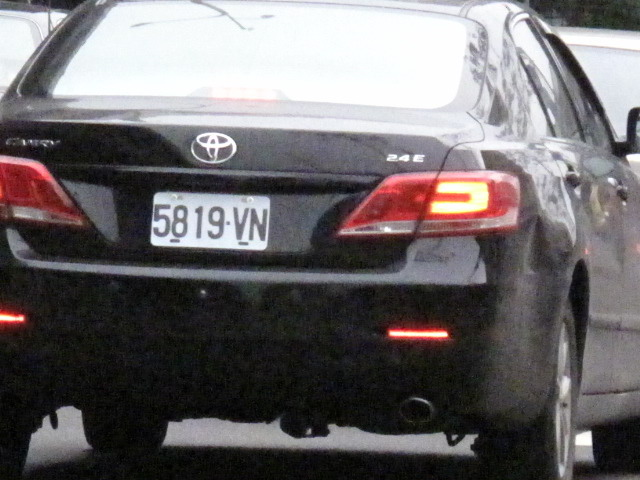plate: (144, 187, 273, 253)
